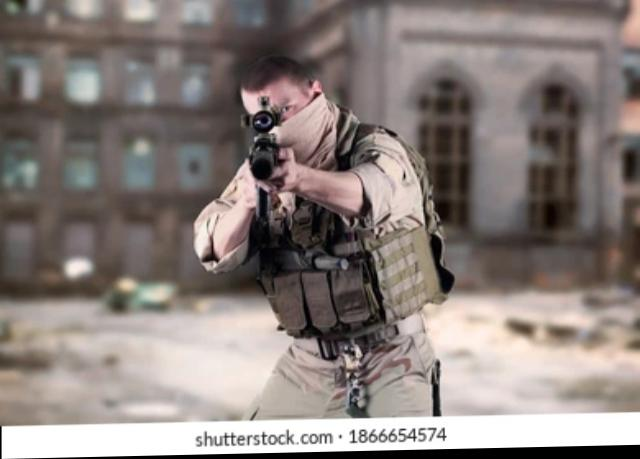other: (196, 61, 446, 429)
